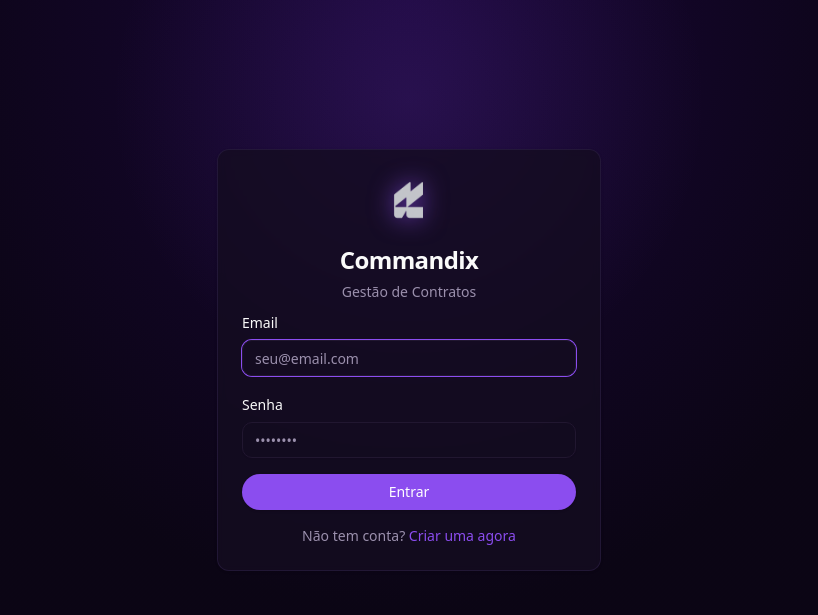
Login Page › deve tratar múltiplas mensagens de erro como array
This screenshot has width=818, height=615.
Type "test@example.com" into the field labelled "Email". click: (409, 358)
box: top-left (242, 340), bottom-right (576, 376)
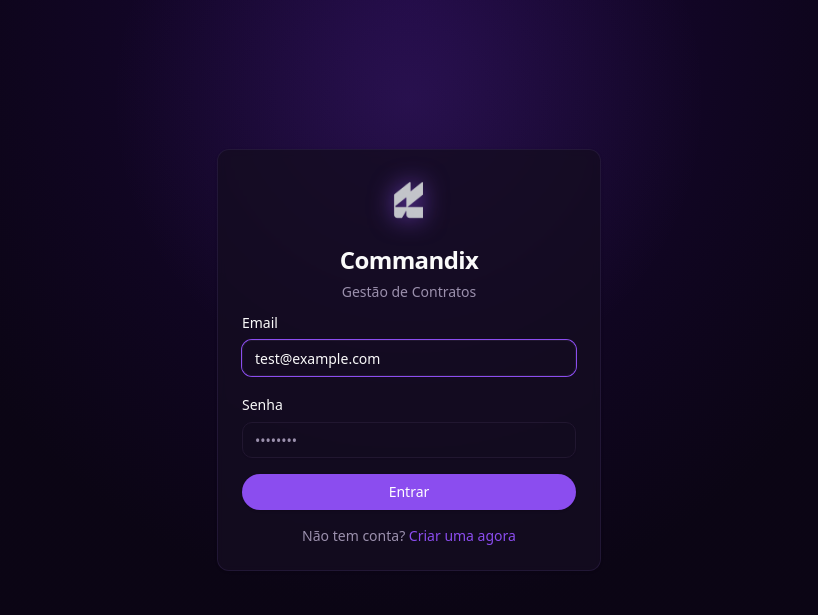
Type "wrongpass" into the password field labelled "Senha". click: (409, 440)
box: top-left (242, 422), bottom-right (576, 458)
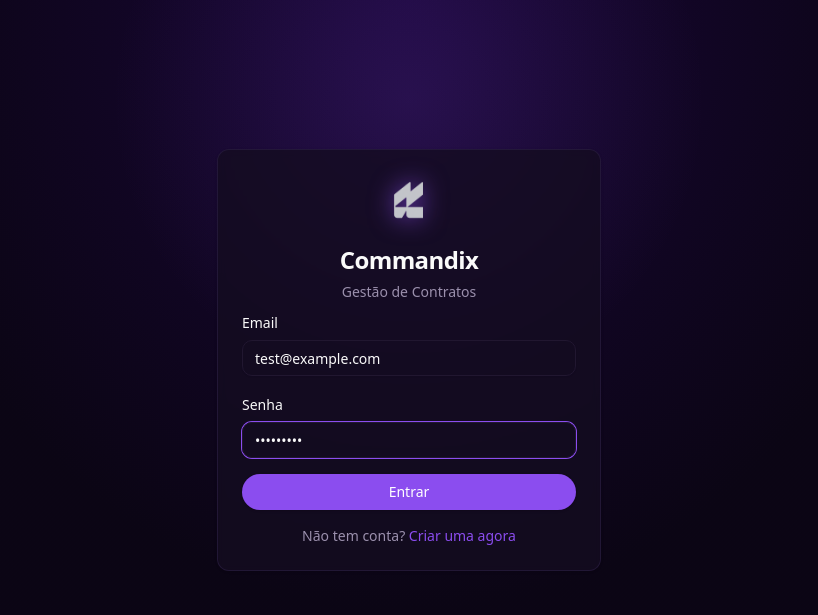
Click the button "Entrar". click: (409, 492)
box: top-left (242, 474), bottom-right (576, 510)
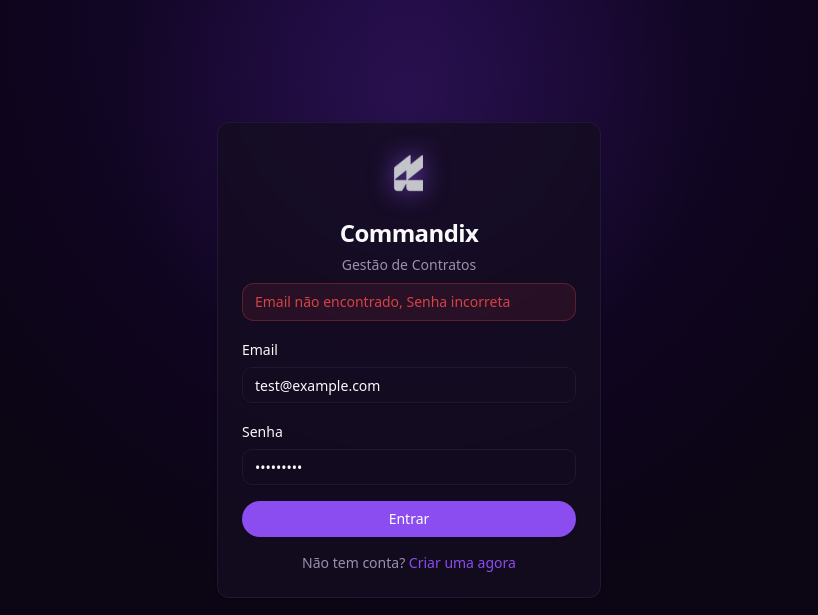
Check: the text "Email não encontrado, Senha incorreta" is shown, box top-left (242, 283), bottom-right (576, 321)
